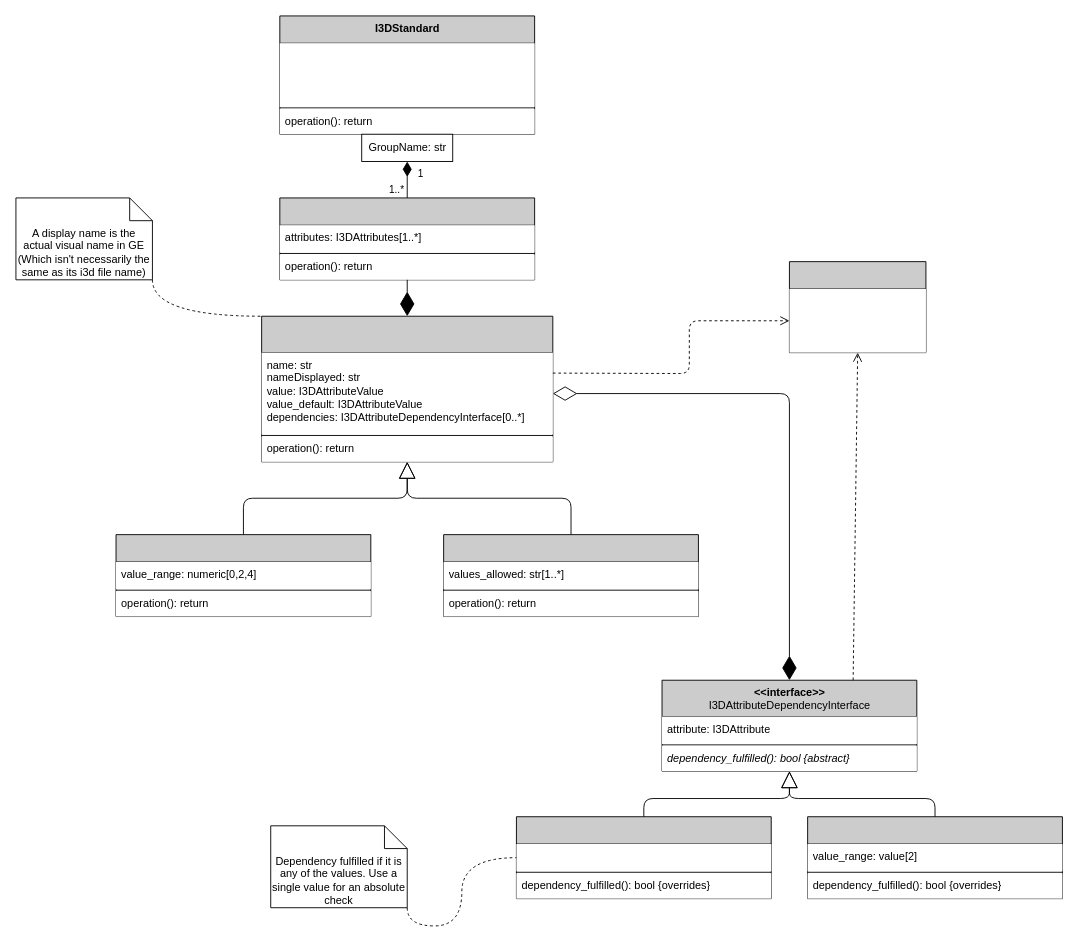
Image size: 1078x942. Some labels were removed from this diagram. Each missing label, with the box of its shape:
<<Type>> I3DAttributeValue: (789, 261, 926, 353)
bool int float[1,3,4] str: (789, 288, 925, 352)
DiscreteDependency: (516, 816, 771, 899)
I3DAttribute {abstract}: (261, 315, 553, 462)
I3DAttributeGroup: (279, 197, 535, 280)
I3DEnumAttribute: (443, 534, 698, 617)
I3DNumberAttribute: (115, 534, 371, 617)
name: str groups: Dict[str, I3DAttributeGroup]: (279, 43, 534, 106)
RangeDependency: (807, 816, 1062, 899)
values_allowed: value[1..*]: (516, 844, 771, 871)
